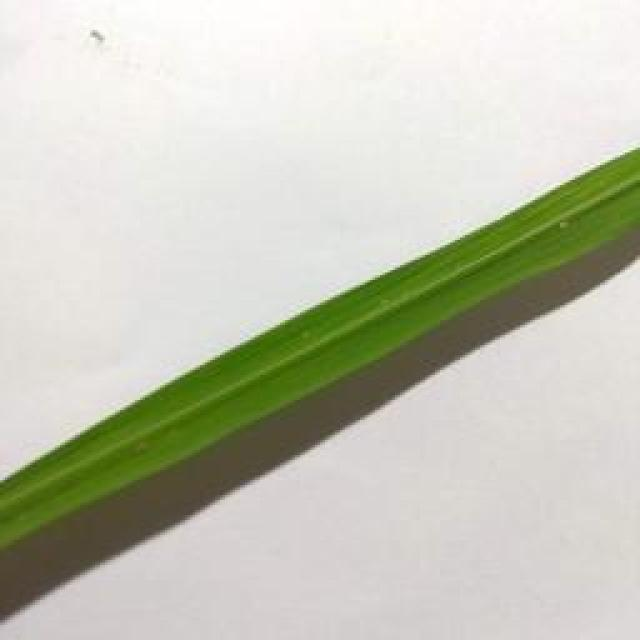Healthy-Plant: (374, 195, 546, 375), (0, 384, 155, 570), (253, 273, 403, 436), (132, 334, 270, 505), (526, 147, 640, 297)
